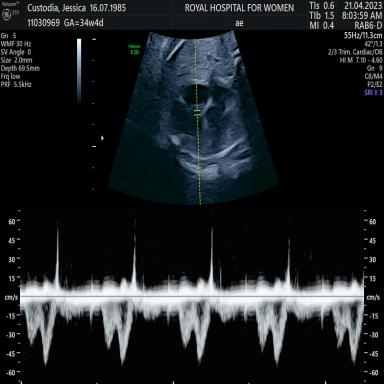Ultrasound-Waves: (25, 210, 363, 384)
